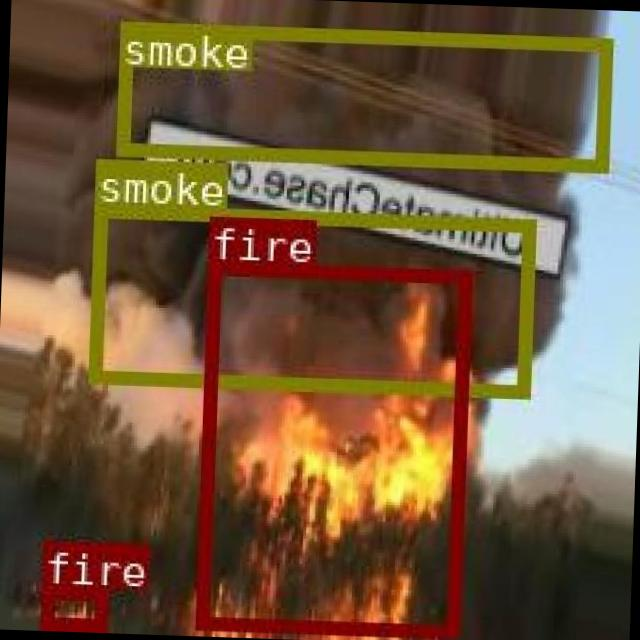fire: (194, 259, 469, 634), (38, 584, 104, 626)
smoke: (85, 202, 532, 394), (116, 21, 610, 169)
